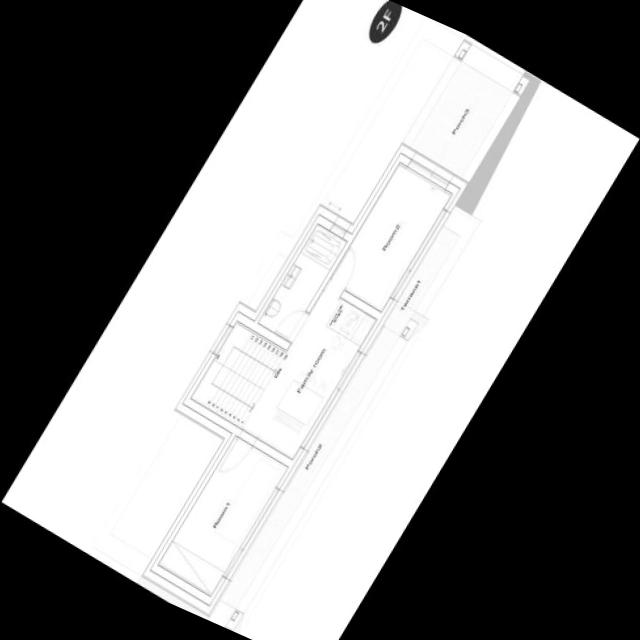background: (1, 0, 639, 640)
space_bedroom: (158, 435, 288, 596), (329, 161, 452, 311)
space_kitchen: (240, 287, 377, 459)
space_staircase: (190, 320, 286, 427)
space_toilet: (258, 223, 347, 340)
